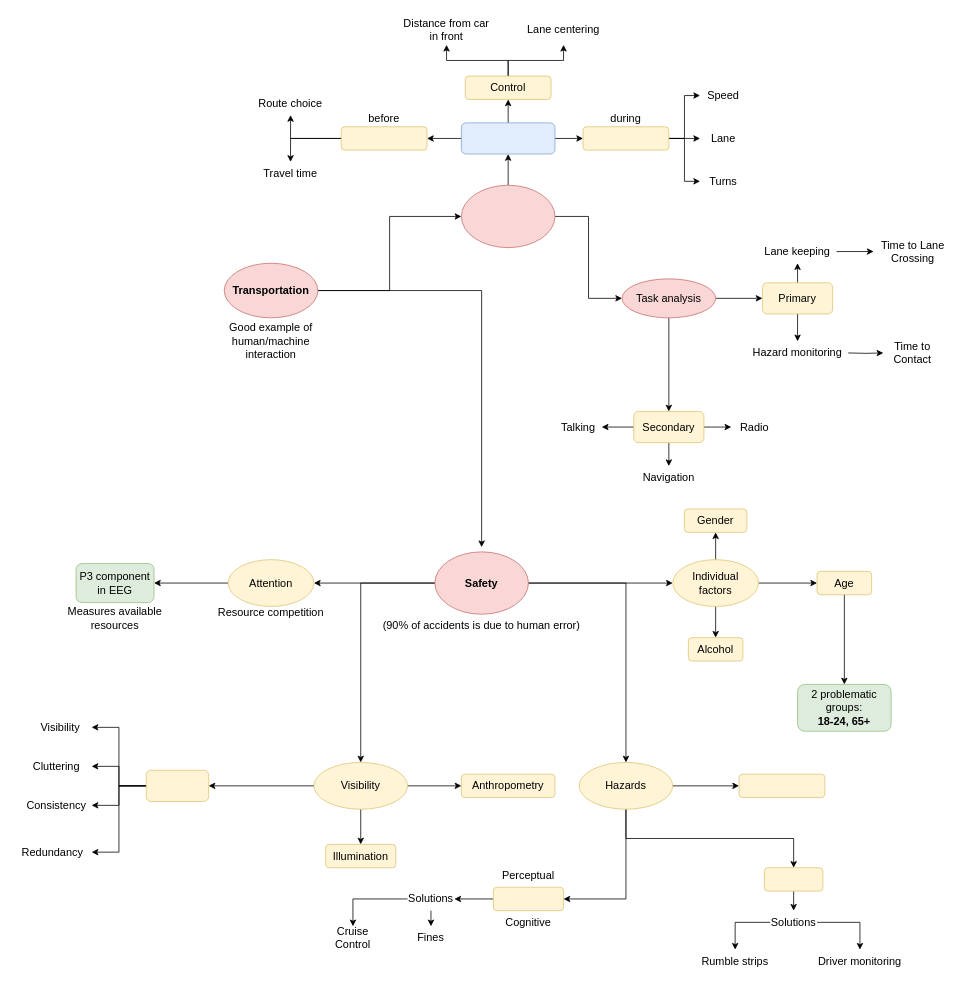
This 965x986 diagram has some shape labels left out. Each missing label, with the box of its shape:
3 main tasks: (461, 122, 555, 154)
Driving: (461, 184, 555, 248)
Fatigue: (764, 867, 823, 891)
Overcorrection: (738, 773, 825, 798)
Signage: (145, 769, 209, 801)
Speeding: (493, 886, 564, 911)
Strategical: (340, 126, 427, 150)
Tactical: (582, 126, 669, 150)
